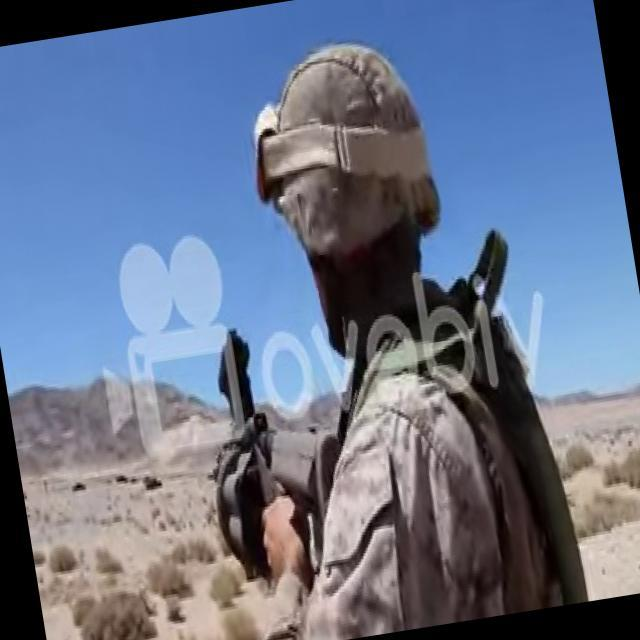rocket: (187, 310, 355, 588)
